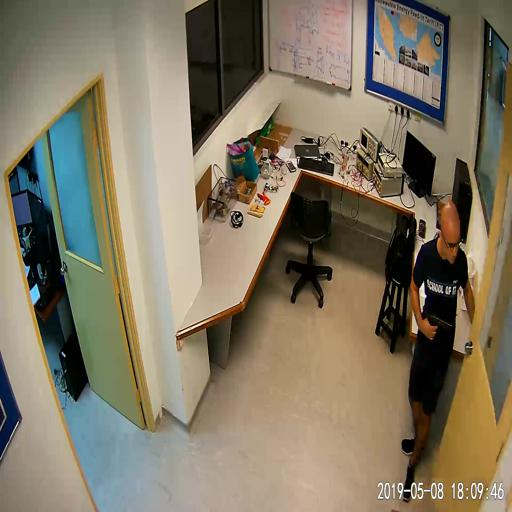pistol: (426, 310, 453, 341)
